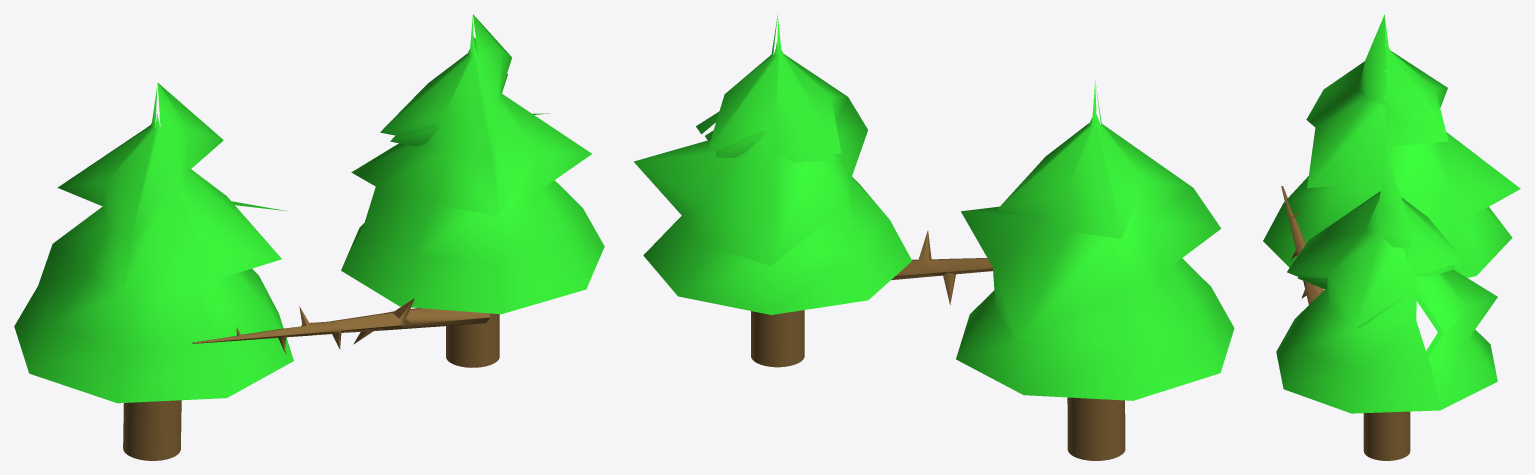
Rendered from arvores.glb.
3 views of the same model, side by side, from view 1: azimuth 30°, elevation 25°; view 2: azimuth 150°, elevation 25°; view 3: azimuth 270°, elevation 25° (orthographic). The views are drawn at different scales.
Visible parts, largest first — view 1: default8_Material_0, Mesh_1; view 2: default8_Material_0, Mesh_1; view 3: default8_Material_0, Mesh_1.
Boxes of the visible parts, x1,y1,x2,y2 form: default8_Material_0: (14, 14, 604, 460); Mesh_1: (390, 37, 507, 215); default8_Material_0: (634, 14, 1234, 460); Mesh_1: (705, 38, 834, 162); default8_Material_0: (1263, 14, 1520, 460); Mesh_1: (1297, 236, 1456, 357).
Bounding box in the file's own units: 1.31 × 0.8274 × 0.6102.
